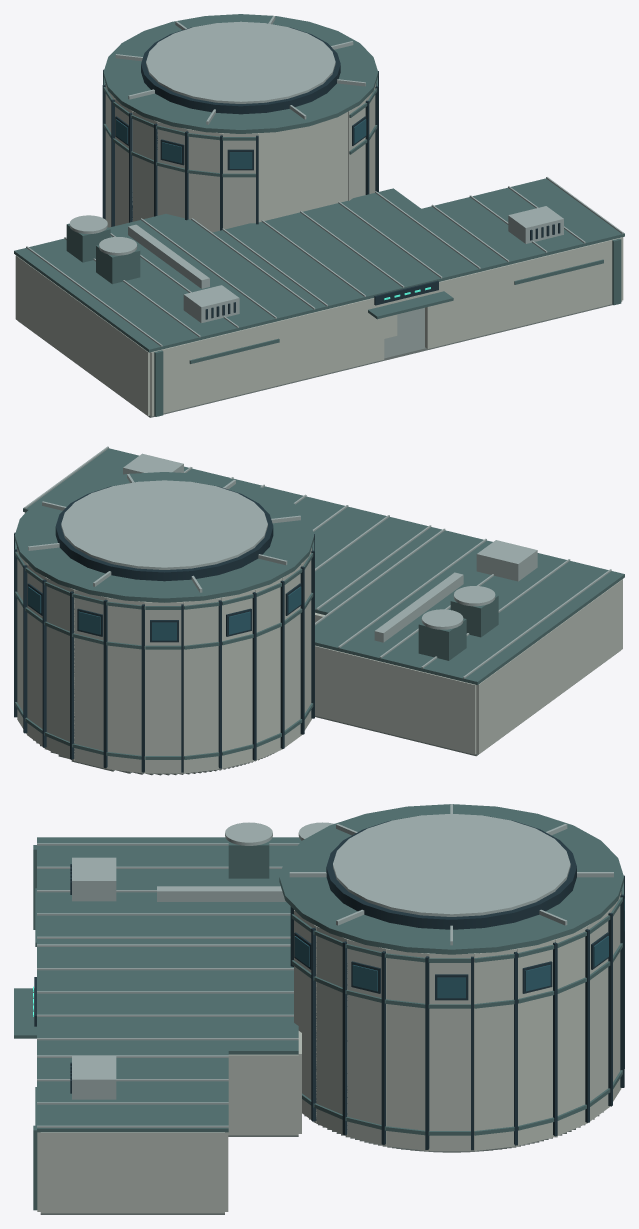
File: FSA_ENV_Research_02_ProductionWing.glb
3 renders of one model, top to bottom at view 1: azimuth 30°, elevation 25°; view 2: azimuth 150°, elevation 25°; view 3: azimuth 270°, elevation 25°, orthographic. The views are drawn at different scales.
Parts seen in each view (by area): view 1: LobbyRoof, WestRoof, Front68, CoreRoofTop, Front69, CoreRoofDisk, WestOuter77, EastRoof, CorePortal65, CoreWall21, CoreRoofCrown, CoreWall22 (+20 smaller); view 2: WestRoof, CoreRoofTop, CoreRoofDisk, WestBack78, WestOuter77, LobbyRoof, CoreWall15, CoreWall13, CoreWall14, CoreWall12, CoreWall16, CoreWall17 (+29 smaller); view 3: LobbyRoof, CoreRoofTop, WestRoof, CoreRoofDisk, EastOuter80, EastRoof, CoreWall5, CoreWall7, CoreWall6, CoreWall4, LobbyRight74, CoreWall8 (+33 smaller).
Part boxes in pixels (bbox=[...]): LobbyRoof: bbox=[212, 188, 497, 311]; WestRoof: bbox=[14, 214, 316, 352]; Front68: bbox=[150, 298, 384, 416]; CoreRoofTop: bbox=[146, 21, 335, 103]; Front69: bbox=[425, 237, 622, 348]; CoreRoofDisk: bbox=[103, 14, 378, 133]; WestOuter77: bbox=[15, 255, 150, 415]; EastRoof: bbox=[420, 178, 624, 267]; CorePortal65: bbox=[281, 121, 324, 216]; CoreWall21: bbox=[189, 129, 223, 232]; CoreRoofCrown: bbox=[141, 23, 340, 114]; CoreWall22: bbox=[223, 133, 258, 229]; WestRoof: bbox=[315, 530, 624, 684]; CoreRoofTop: bbox=[61, 480, 267, 569]; CoreRoofDisk: bbox=[14, 472, 314, 602]; WestBack78: bbox=[315, 645, 476, 754]; WestOuter77: bbox=[476, 579, 622, 754]; LobbyRoof: bbox=[244, 481, 441, 615]; CoreWall15: bbox=[183, 597, 221, 773]; CoreWall13: bbox=[108, 597, 145, 773]; CoreWall14: bbox=[145, 601, 183, 773]; CoreWall12: bbox=[74, 589, 107, 769]; CoreWall16: bbox=[221, 589, 254, 769]; CoreWall17: bbox=[254, 578, 282, 760]; LobbyRoof: bbox=[37, 939, 298, 1054]; CoreRoofTop: bbox=[333, 813, 570, 916]; WestRoof: bbox=[37, 837, 301, 939]; CoreRoofDisk: bbox=[279, 804, 623, 954]; EastOuter80: bbox=[40, 1132, 224, 1213]; EastRoof: bbox=[37, 1049, 228, 1132]; CoreWall5: bbox=[386, 948, 429, 1150]; CoreWall7: bbox=[474, 948, 516, 1150]; CoreWall6: bbox=[429, 953, 473, 1151]; CoreWall4: bbox=[347, 939, 386, 1145]; LobbyRight74: bbox=[228, 1054, 298, 1135]; CoreWall8: bbox=[517, 939, 555, 1145].
Bounding box in the file's own units: 37.4 × 13.08 × 33.15.
